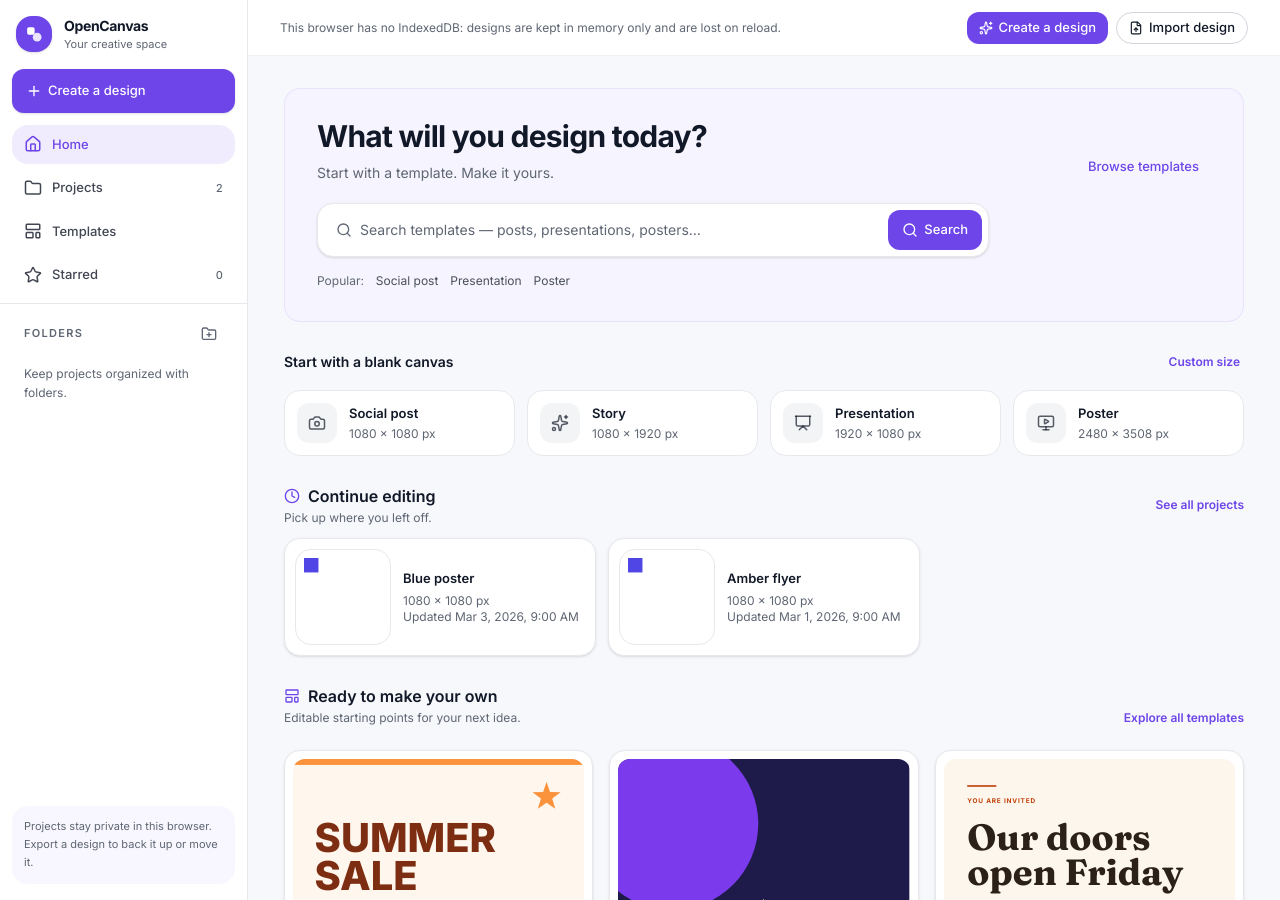
Test: Dashboard › sorts the design list by name when asked
Click the button "Projects 2" at (124, 188), box [12,168,235,208]
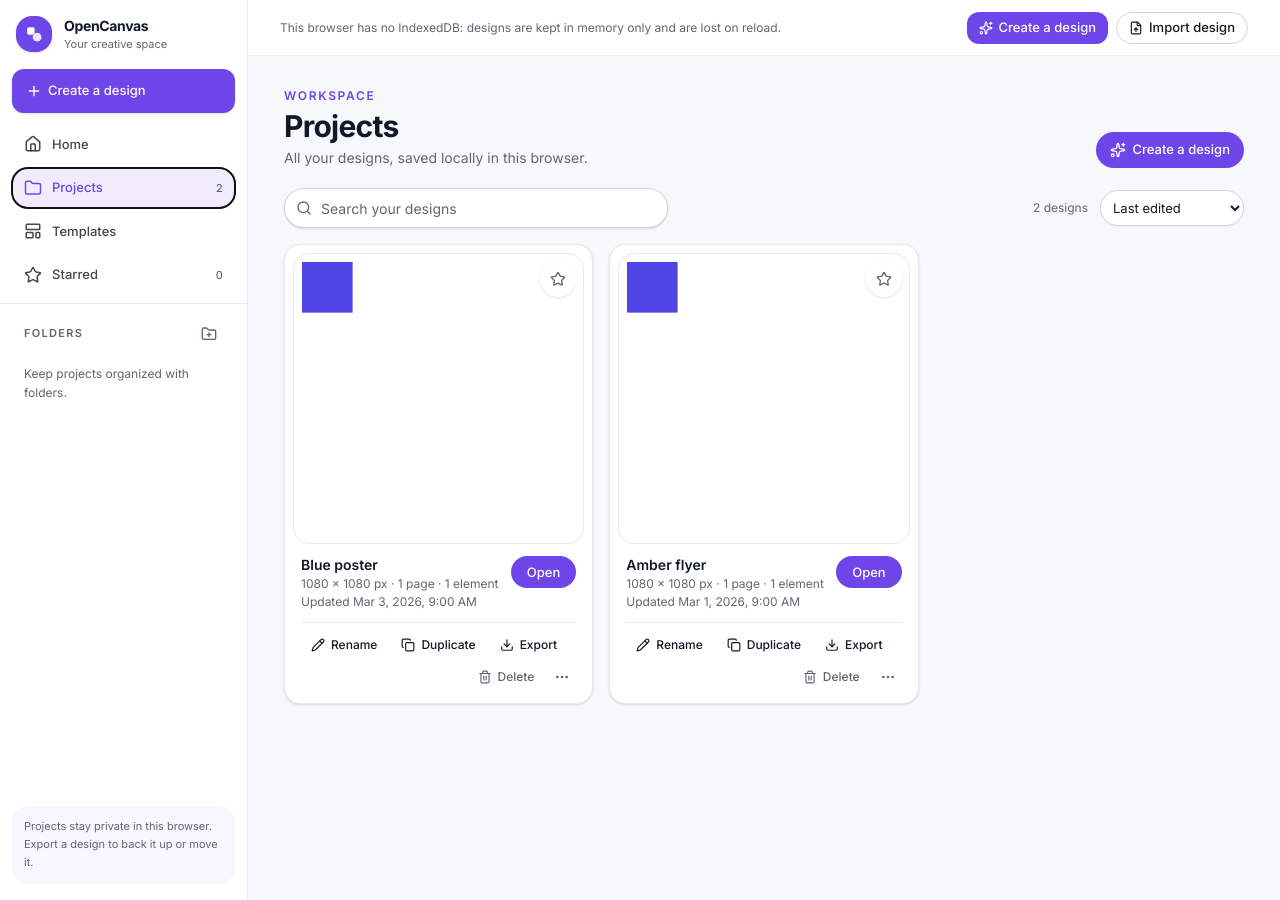
Select "Name" in the dropdown named "Sort designs" at (1172, 208), box [1100,190,1244,226]
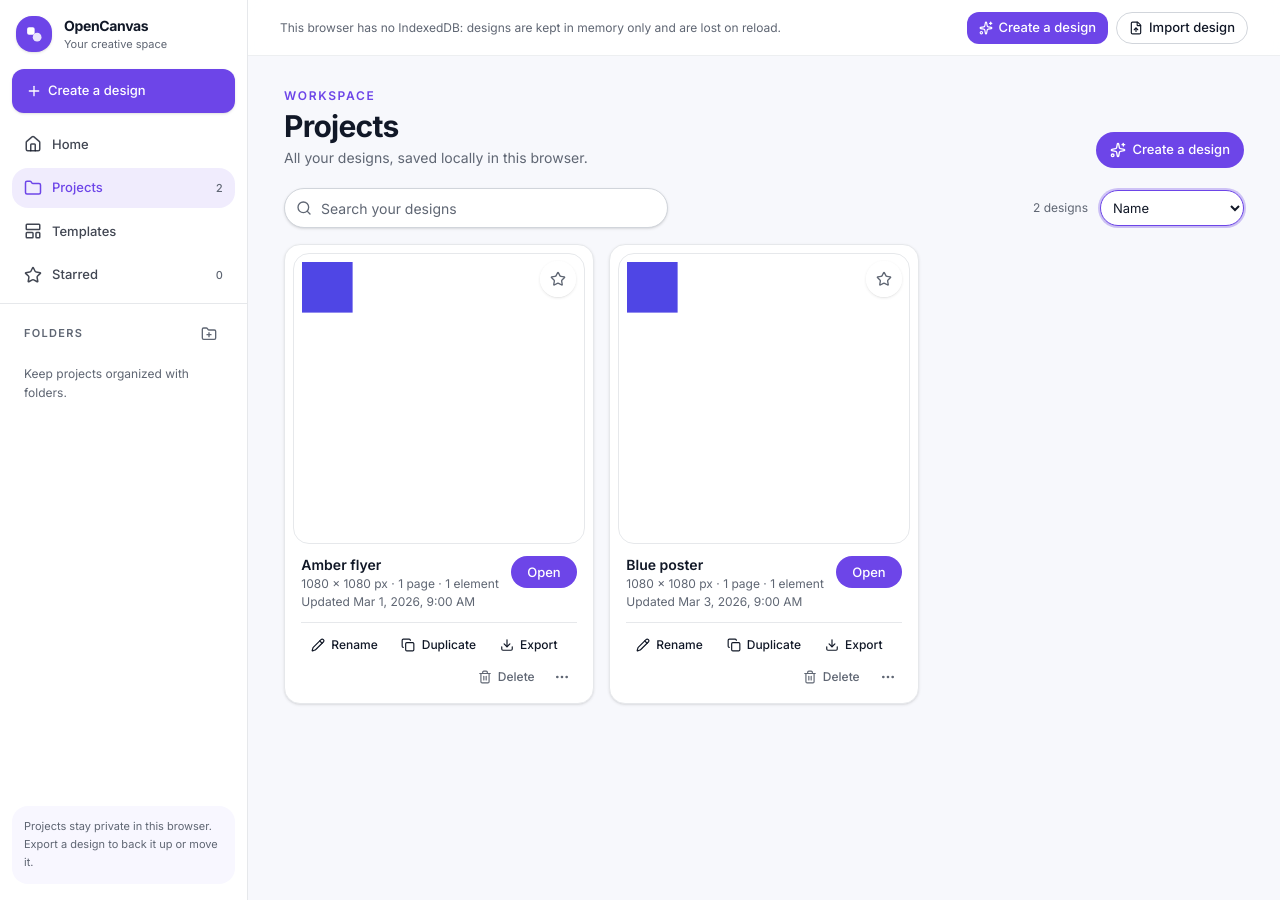
Expected: the headings read "Amber flyer", "Blue poster", in this order, [301,556,381,573]; [626,556,703,573]
